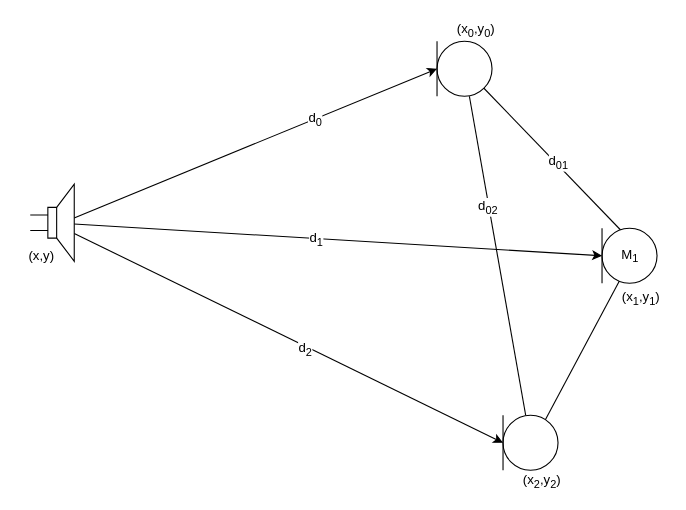
The diagram is 686 pixels wide and 510 high, and some of its shapes have lost their labels. The box of each missing label's shape, as (x1, y1, x2, y2) in pixels:
M 0: (436, 40, 492, 96)
M 2: (502, 414, 558, 470)
